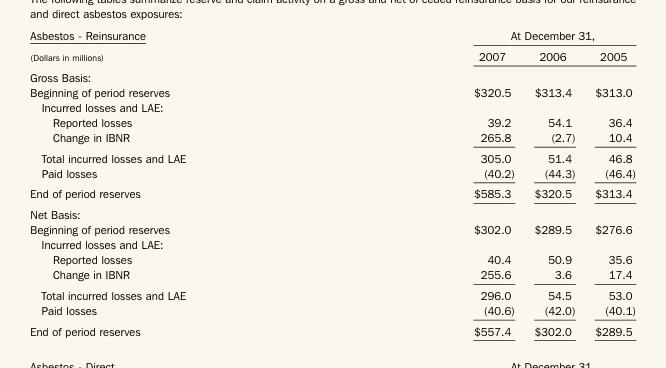table: (29, 28, 635, 337)
table column: (29, 28, 329, 337), (329, 28, 523, 337), (523, 28, 584, 337), (584, 28, 635, 337)
table column header: (29, 28, 635, 66)
table projected row header: (29, 203, 635, 221), (29, 66, 635, 83), (29, 99, 635, 114), (29, 236, 635, 251)
table row: (29, 45, 635, 66), (29, 182, 635, 203), (29, 129, 635, 147), (29, 147, 635, 165), (29, 203, 635, 221), (29, 266, 635, 284), (29, 284, 635, 302), (29, 302, 635, 320), (29, 28, 635, 45), (29, 66, 635, 83), (29, 165, 635, 182), (29, 320, 635, 337), (29, 83, 635, 99), (29, 99, 635, 114), (29, 114, 635, 129), (29, 221, 635, 236), (29, 236, 635, 251), (29, 251, 635, 266)
table spanning cell: (29, 28, 329, 66), (329, 28, 635, 45)
